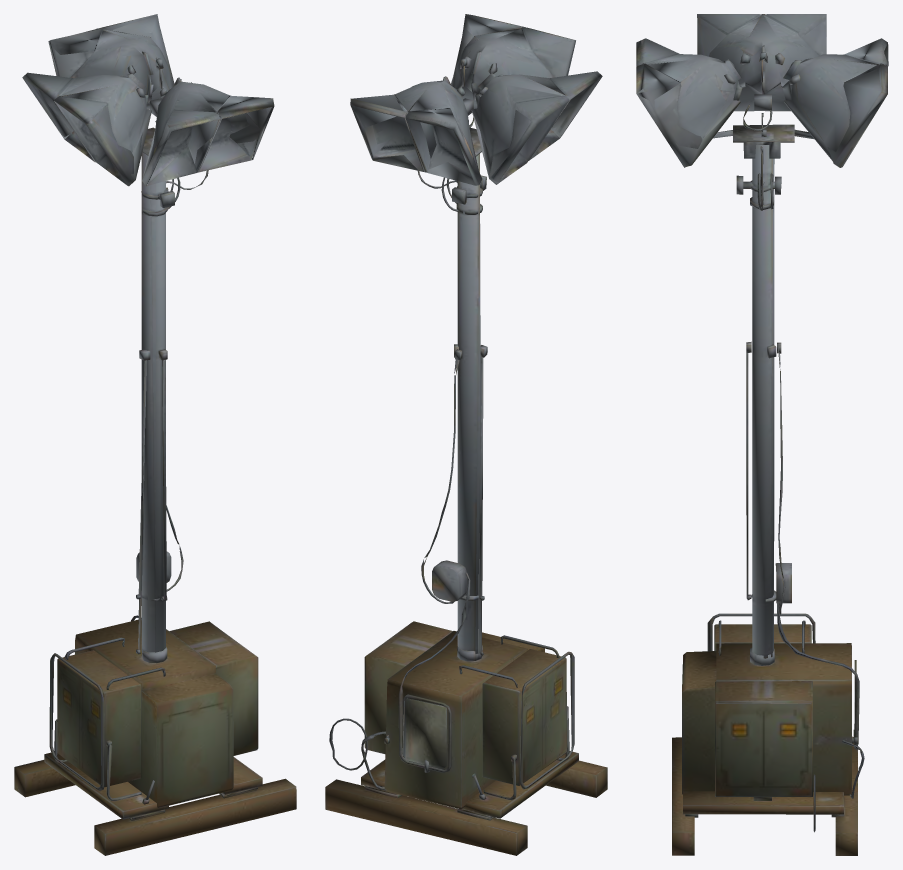
Rendered from h_floodlight.glb.
3 renders of one model, left to right at view 1: azimuth 30°, elevation 25°; view 2: azimuth 150°, elevation 25°; view 3: azimuth 270°, elevation 25°, orthographic. The views are drawn at different scales.
Size of the model in its own units: 0.291 by 0.9507 by 0.2871.
Materials: 1 (1 with a texture image).
